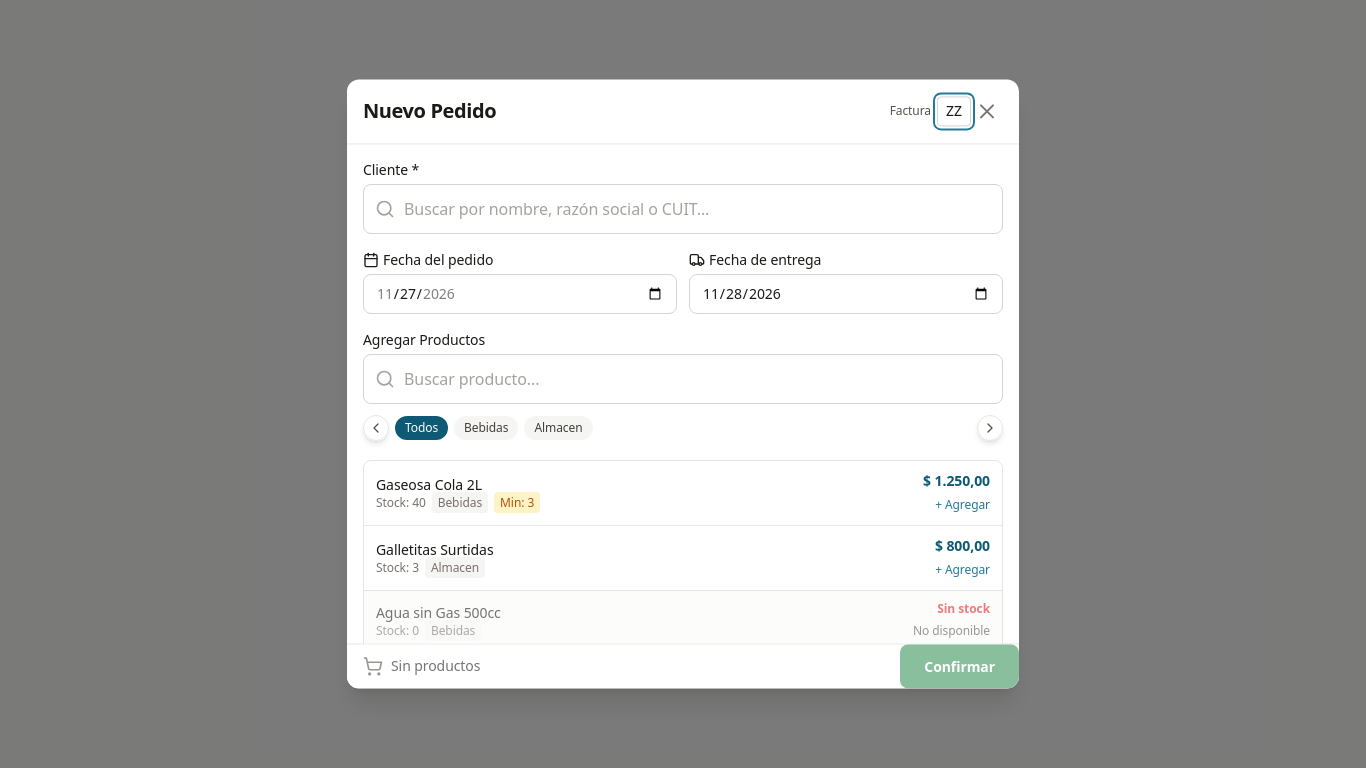
Test: ModalPedido — guardas del confirmar › el mínimo de venta entra ya cargado y el − no deja bajar del piso
Expected: the text "Min: 3" is shown, [494, 492, 540, 513]
Type "Gaseosa" into the field with placeholder "Buscar producto...".
click(683, 379); type("Gaseosa")  # box [363, 354, 1003, 404]
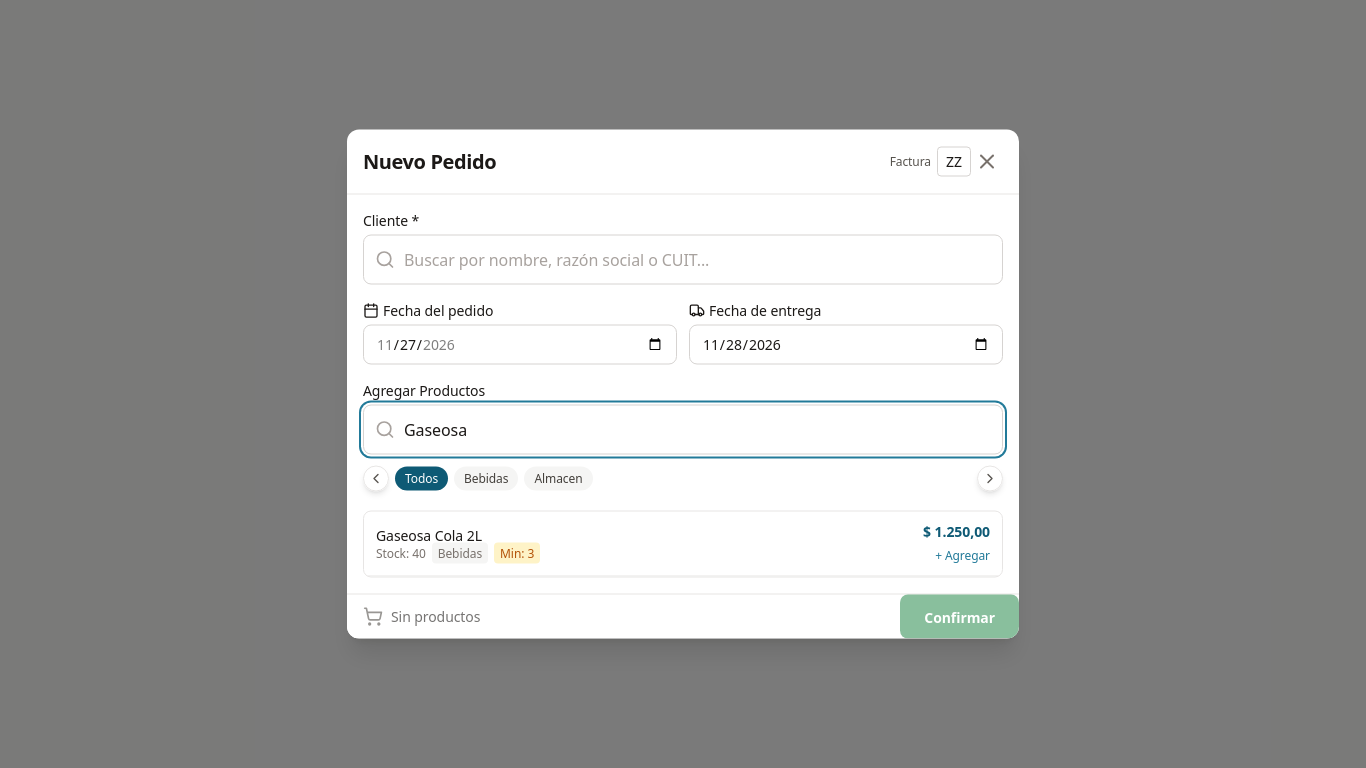
Click the text "+ Agregar".
click(963, 555)  # box [935, 546, 990, 564]
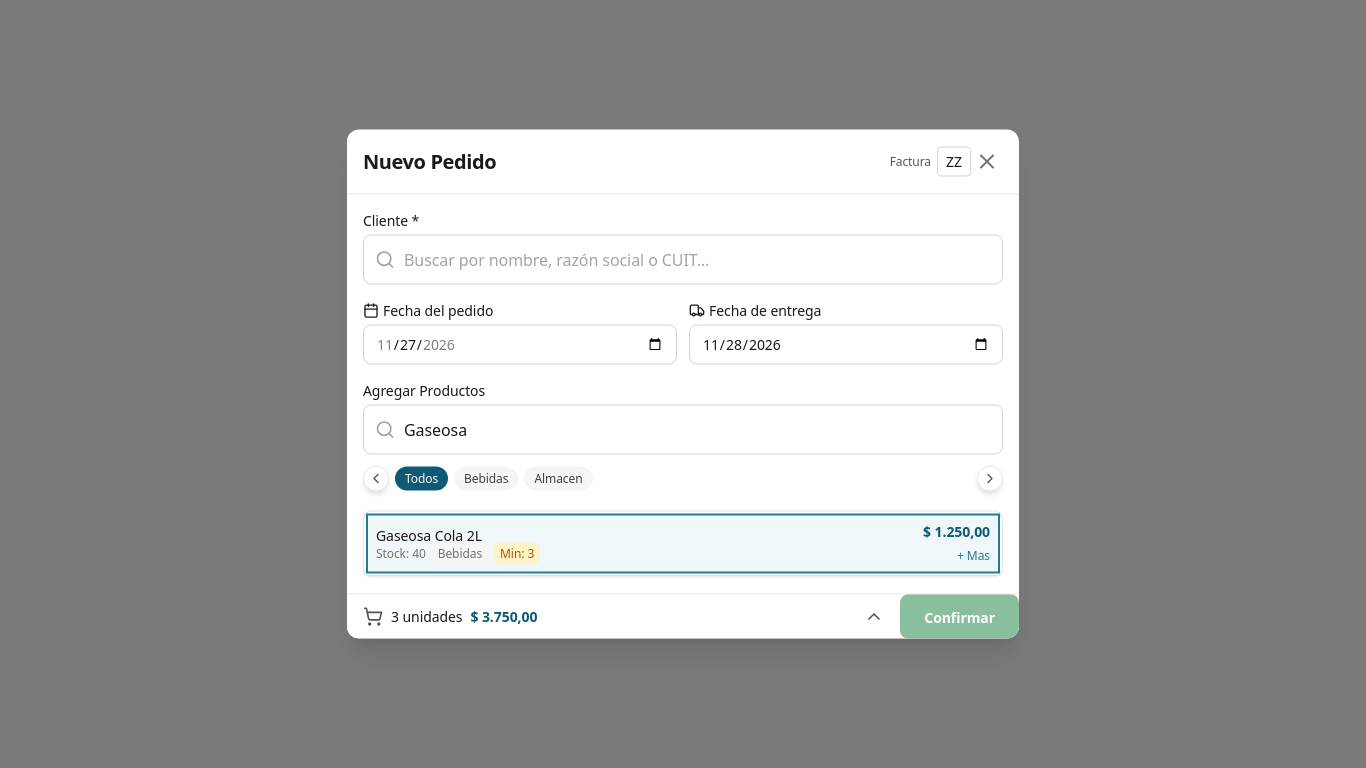
Click the button "3 unidades $ 3.750,00".
click(427, 616)  # box [347, 594, 900, 638]
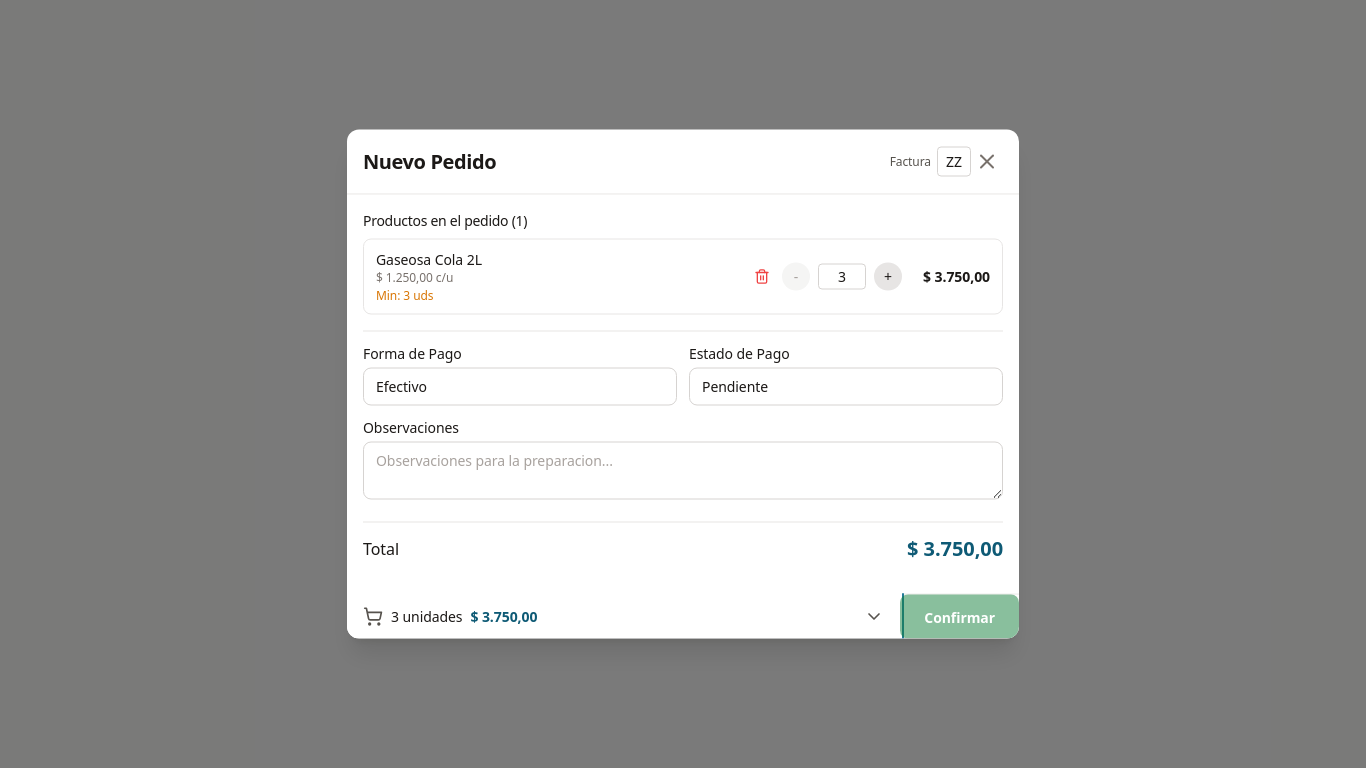
Expected: the button "-" is disabled, [782, 262, 810, 290]
Now the text "Min: 3 uds" is shown, box [376, 286, 434, 304]
